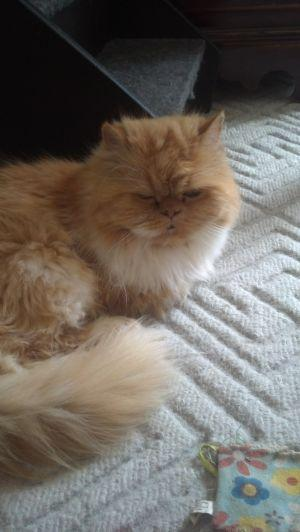persian: (77, 90, 261, 271)
